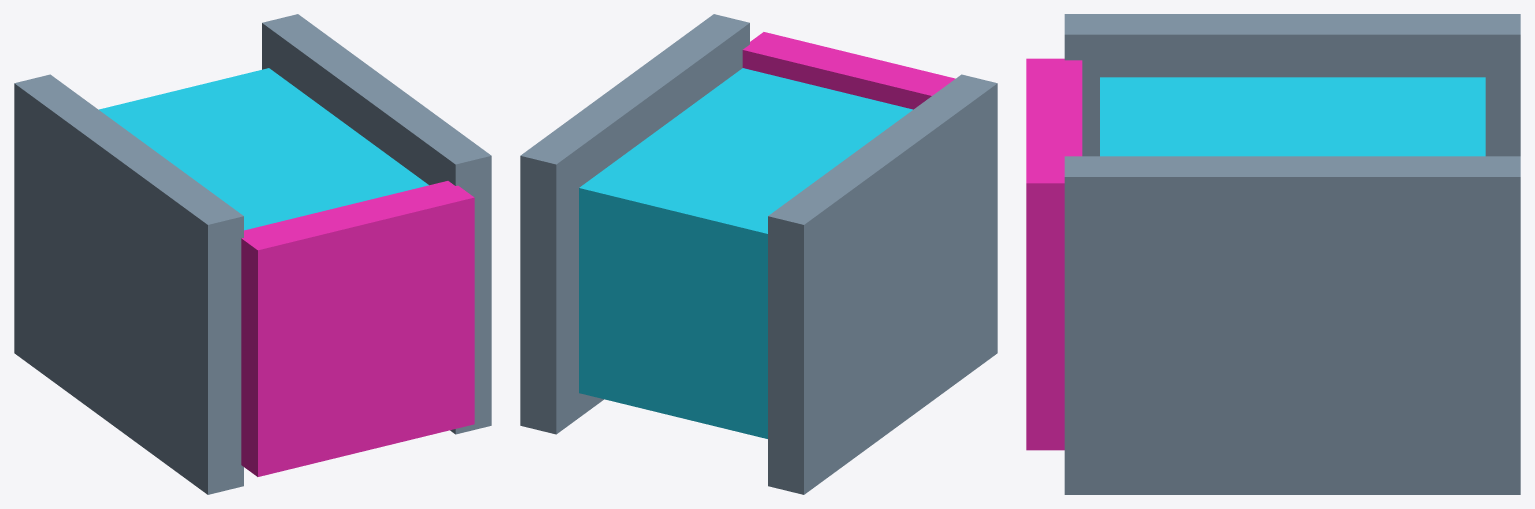
The model's file is future_energy_cell.glb.
3 views of the same model, side by side, from view 1: azimuth 30°, elevation 25°; view 2: azimuth 150°, elevation 25°; view 3: azimuth 270°, elevation 25° (orthographic). The views are drawn at different scales.
Visible parts, largest first — view 1: part_1, part_3, part_0, part_2; view 2: part_1, part_0, part_2, part_3; view 3: part_2, part_1, part_0, part_3.
Boxes of the visible parts, x1,y1,x2,y2 form: part_1: [14, 74, 243, 494]; part_3: [241, 181, 474, 476]; part_0: [99, 68, 428, 230]; part_2: [262, 14, 491, 434]; part_1: [768, 74, 997, 494]; part_0: [579, 68, 912, 438]; part_2: [520, 14, 749, 434]; part_3: [742, 32, 955, 109]; part_2: [1064, 156, 1520, 494]; part_1: [1064, 14, 1520, 156]; part_0: [1100, 77, 1485, 156]; part_3: [1026, 58, 1082, 450].
Size of the model in its own units: 0.55 by 0.5 by 0.705.
